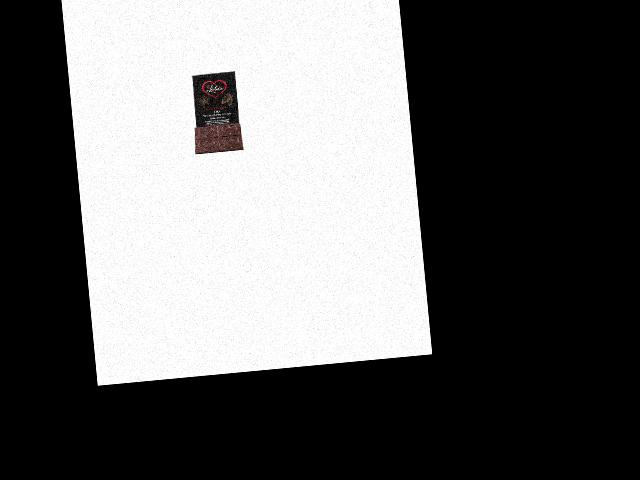chocolate: (184, 70, 245, 157)
